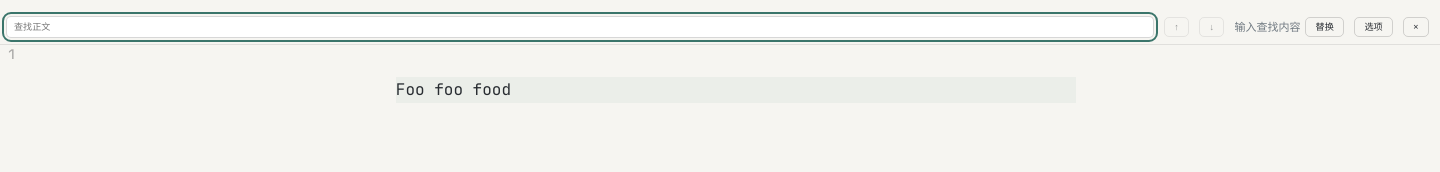
Test: compact Chinese document search › offers case, whole-word and regexp options with a nearby invalid-pattern message
Type "foo" into the field with placeholder "查找正文" at [580, 27], box [6, 16, 1154, 38]
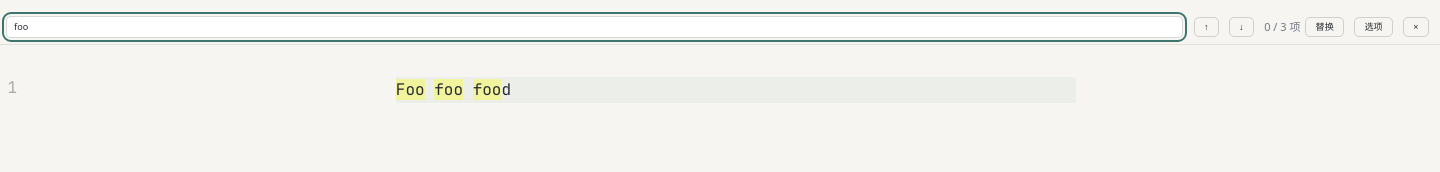
Expected: the message named "查找结果" shows "/ 3", [1264, 19, 1300, 34]
Click the button "选项" at [1374, 27], box [1354, 17, 1393, 37]
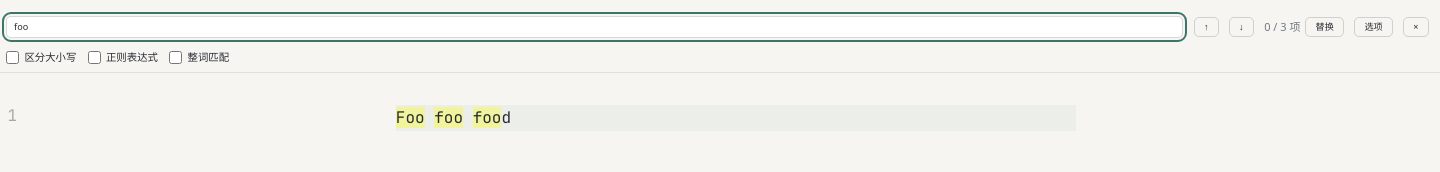
Click the checkbox labelled "整词匹配" at [176, 57], box [169, 51, 182, 64]
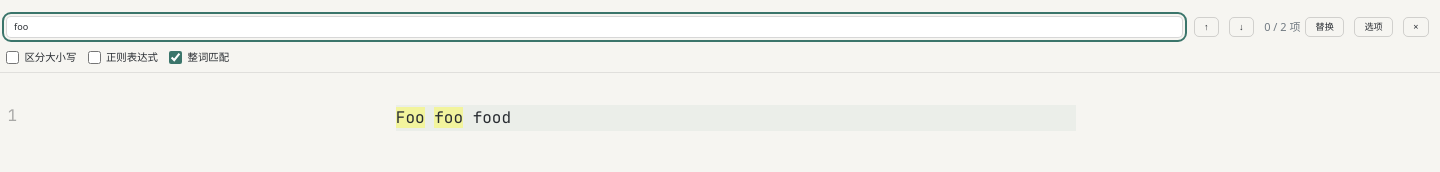
Expected: the message named "查找结果" shows "/ 2", [1264, 19, 1300, 34]
Click the checkbox labelled "区分大小写" at [12, 57], box [6, 51, 19, 64]
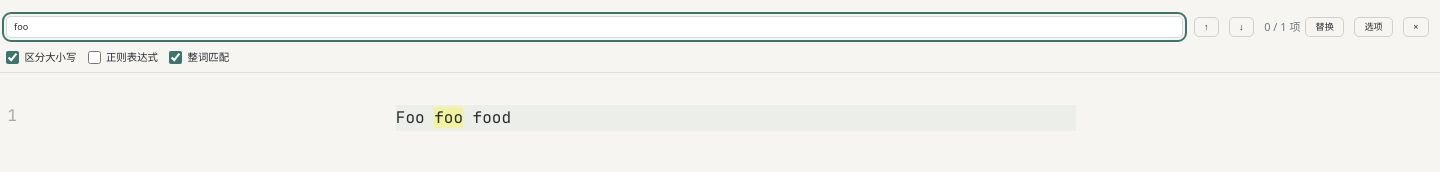
Expected: the message named "查找结果" shows "/ 1", [1264, 19, 1300, 34]
Click the checkbox labelled "正则表达式" at [94, 57], box [88, 51, 101, 64]
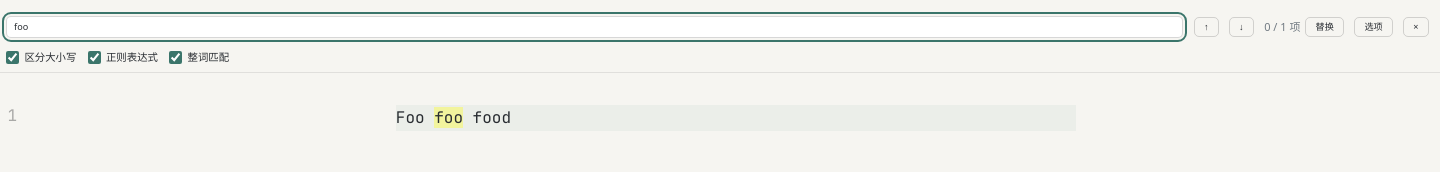
Replace the text in the field named "查找正文" with "(" at [595, 27], box [6, 16, 1183, 38]
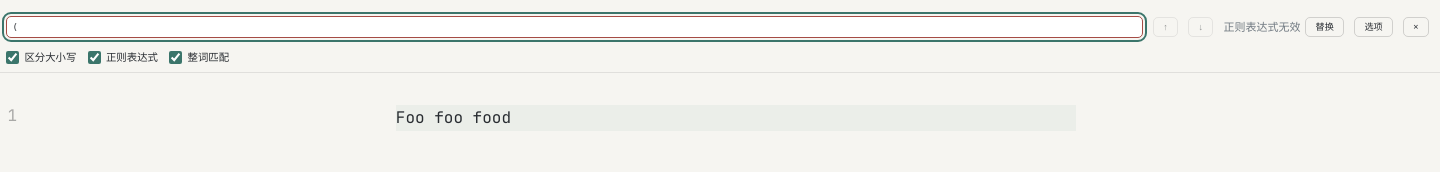
Expected: the message named "查找结果" shows "无效", [1224, 18, 1300, 36]
